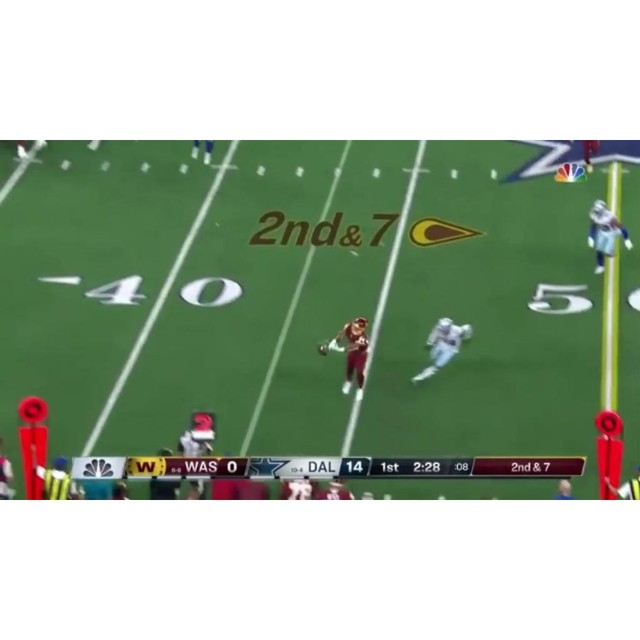american-football-player: (410, 316, 474, 386), (324, 316, 372, 396), (585, 201, 634, 276)
